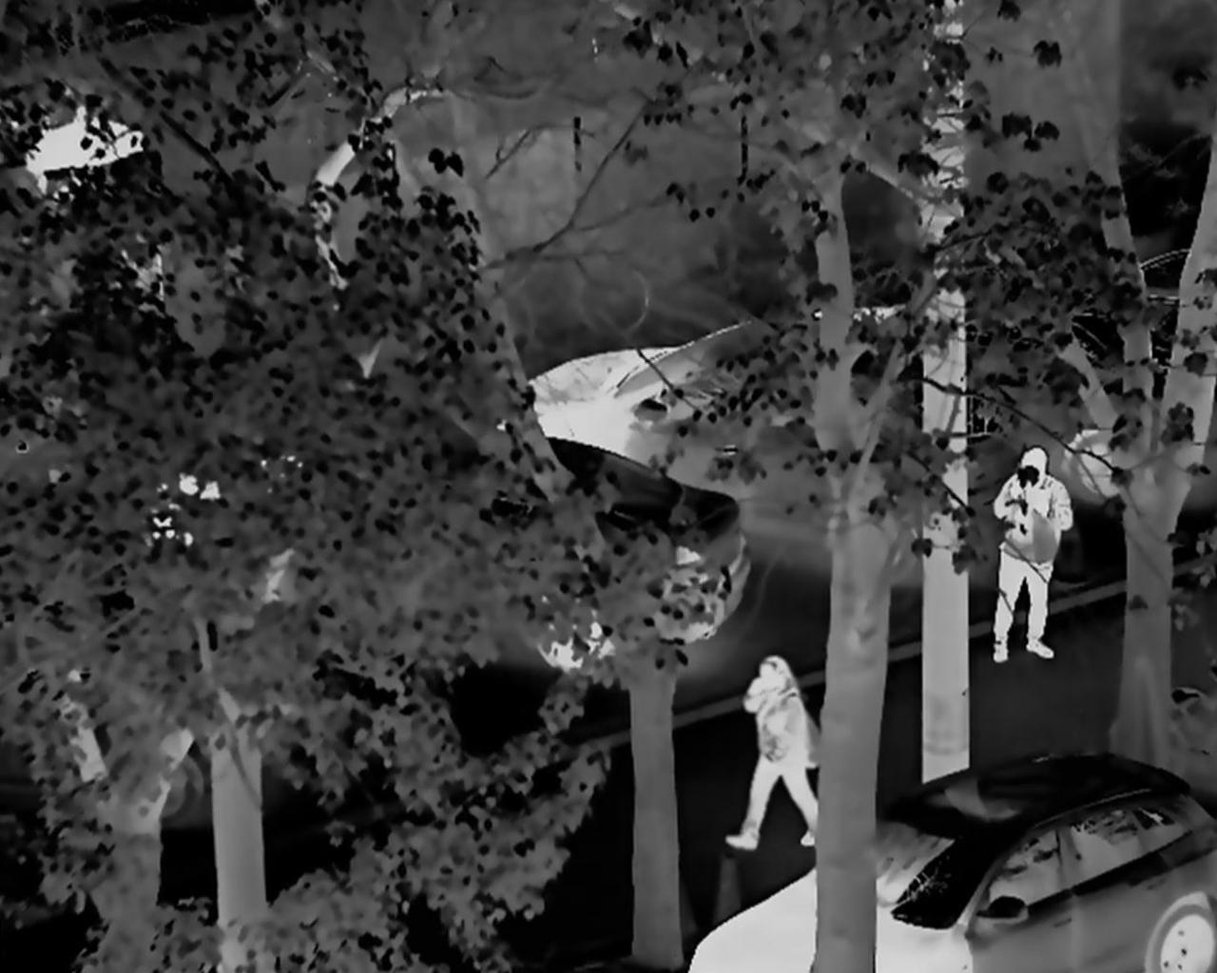person: (728, 651, 827, 853), (993, 447, 1074, 668)
